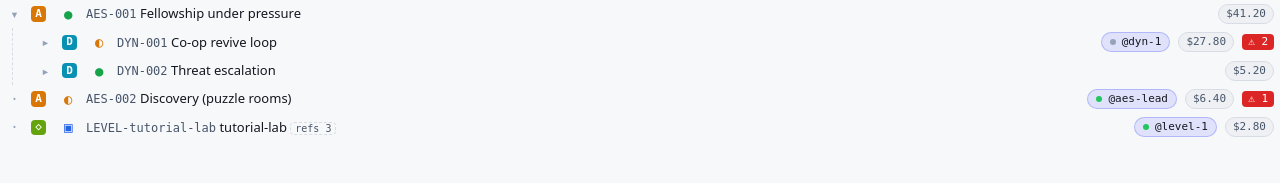
Scenario: SpecTree › shows an 'also serves' chip on multi-parent nodes (MEC-003)
Expected: the text "DYN-002" is shown, [117,64,168,78]
What coordinates should you click on to do the following:
click the text with class "tree-row__disclosure" in the row of "DYN-002"
I would click on:
 (45, 71)
Its box is [41,63,50,79].
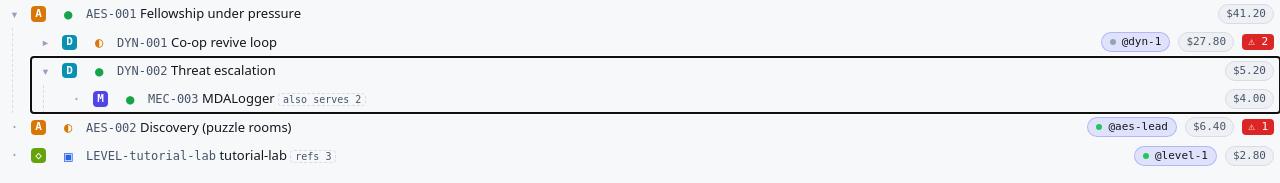
Expected: the text "also serves 2" is shown, [278,93,366,106]
